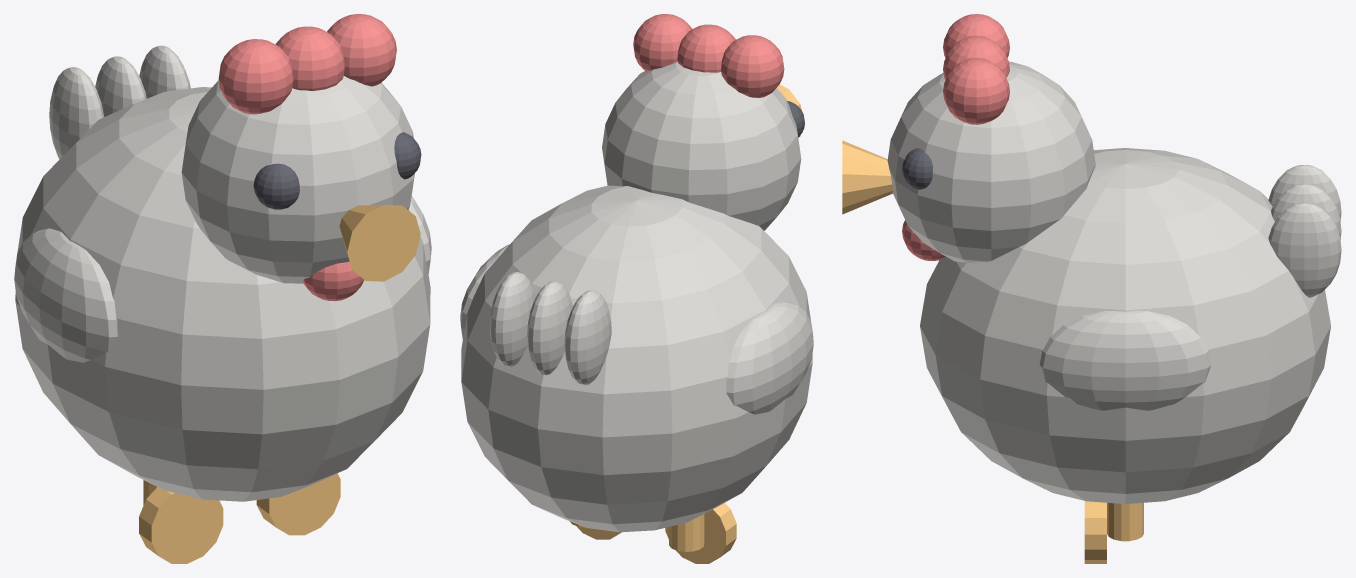
The model's file is chicken.glb.
3 views of the same model, side by side, from view 1: azimuth 30°, elevation 25°; view 2: azimuth 150°, elevation 25°; view 3: azimuth 270°, elevation 25° (orthographic). The views are drawn at different scales.
Visible parts, largest first — view 1: ChkCream, ChkOrange, ChkRed, ChkPupil; view 2: ChkCream, ChkRed, ChkOrange; view 3: ChkCream, ChkRed, ChkOrange, ChkPupil.
Part boxes in pixels (box(x1,y1,x2,y2)): ChkCream: box(14, 45, 431, 501); ChkOrange: box(139, 205, 420, 563); ChkRed: box(218, 14, 396, 301); ChkPupil: box(253, 132, 421, 209); ChkCream: box(460, 61, 813, 532); ChkRed: box(633, 14, 784, 97); ChkOrange: box(569, 84, 801, 563); ChkCream: box(887, 61, 1341, 503); ChkRed: box(902, 14, 1009, 260); ChkOrange: box(842, 140, 1143, 563); ChkPupil: box(902, 148, 932, 189).
Size of the model in its own units: 0.5 by 0.735 by 0.67.
